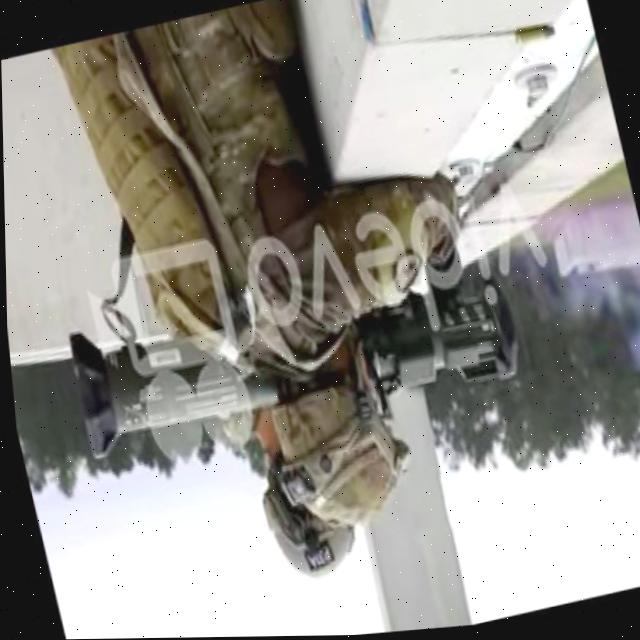rocket: (53, 224, 527, 484)
